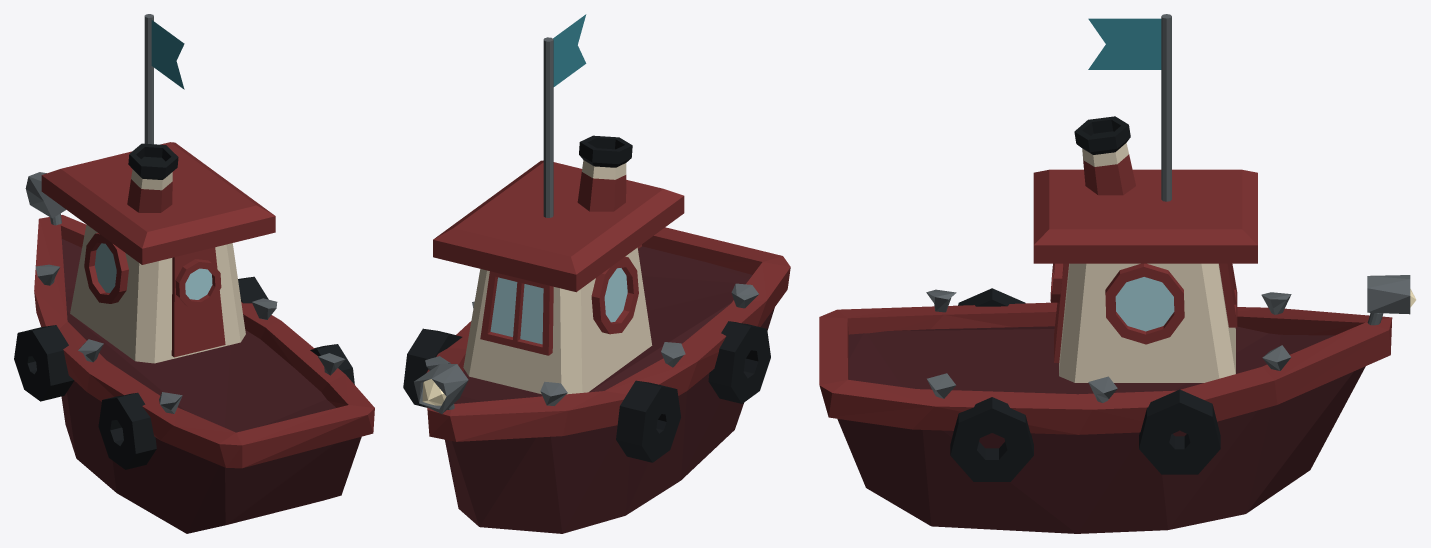
The model's file is tug.glb.
3 renders of one model, left to right at view 1: azimuth 30°, elevation 25°; view 2: azimuth 150°, elevation 25°; view 3: azimuth 270°, elevation 25°, orthographic. The views are drawn at different scales.
Parts seen in each view (by area): view 1: Hull, Deck_Rim, Cabin, Roof, Fenders_Front, Fenders_Back, Funnel, Flag, Mast, Bow_Lamp_Housing, Bitt_Mid, Bitt_Stern; view 2: Hull, Cabin, Roof, Deck_Rim, Fenders_Front, Fenders_Back, Funnel, Mast, Flag, Bow_Lamp_Housing, Bitt_Bow, Bitt_Stern (+2 smaller); view 3: Hull, Deck_Rim, Cabin, Roof, Fenders_Back, Fenders_Front, Funnel, Flag, Mast, Bow_Lamp_Housing, Bitt_Bow, Bitt_Stern.
Part boxes in pixels (x1,y1,x2,y2): Hull: (61,239,361,533); Deck_Rim: (34,215,374,468); Cabin: (70,224,245,363); Roof: (41,142,275,264); Fenders_Front: (14,276,268,401); Fenders_Back: (98,344,354,469); Funnel: (127,143,178,212); Flag: (151,20,184,89); Mast: (144,14,153,144); Bow_Lamp_Housing: (25,172,66,218); Bitt_Mid: (78,298,277,362); Bitt_Stern: (159,353,345,413); Hull: (445,246,774,533); Cabin: (463,247,652,394); Roof: (433,160,684,292); Deck_Rim: (426,227,790,441); Fenders_Front: (403,328,680,462); Fenders_Back: (708,321,770,403); Funnel: (577,135,632,211); Mast: (543,37,553,217); Flag: (553,14,586,86); Bow_Lamp_Housing: (414,363,468,413); Bitt_Bow: (425,356,567,405); Bitt_Stern: (731,283,758,308); Hull: (837,326,1365,533); Deck_Rim: (819,302,1392,434); Cabin: (1050,263,1237,382); Roof: (1033,169,1257,263); Fenders_Back: (950,288,1033,481); Fenders_Front: (1139,389,1220,474); Funnel: (1074,116,1135,195); Flag: (1088,18,1161,69); Mast: (1161,14,1171,201); Bow_Lamp_Housing: (1367,275,1410,314); Bitt_Bow: (1261,292,1291,370); Bitt_Stern: (926,289,956,398).
Size of the model in its own units: 0.5416 by 0.9943 by 1.13.
